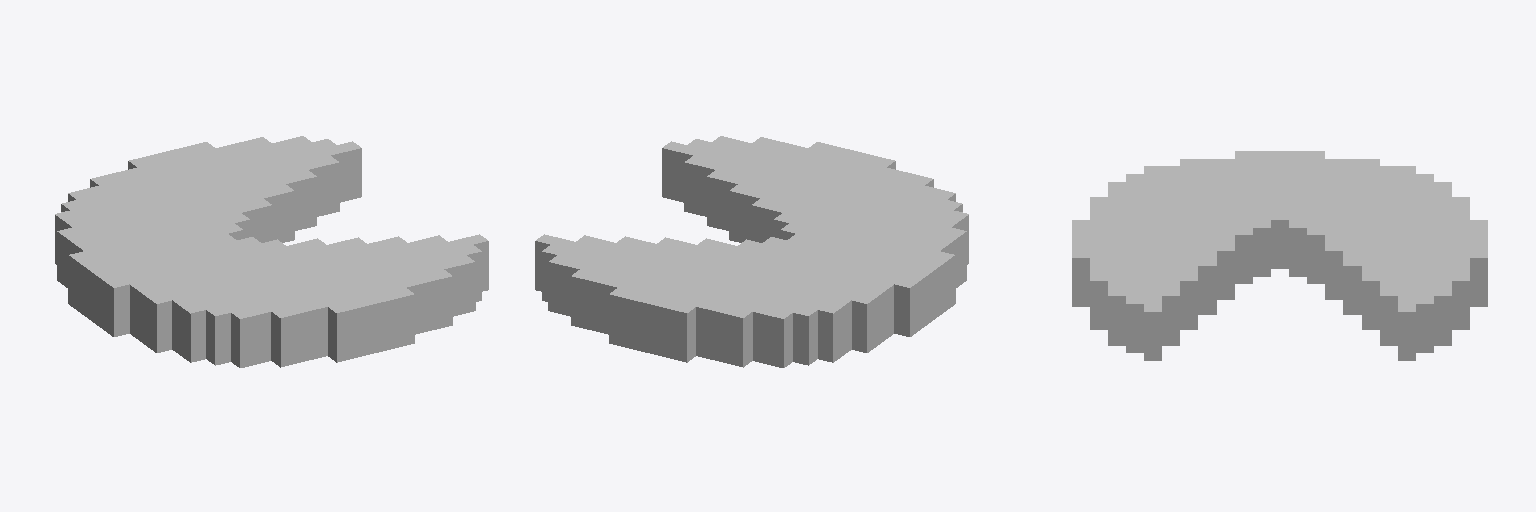
The model's file is Pac Man Sprite Test.obj.
The picture shows the model from 3 angles: view 1: azimuth 30°, elevation 25°; view 2: azimuth 150°, elevation 25°; view 3: azimuth 270°, elevation 25°; orthographic projection.
Size of the model in its own units: 21 by 3 by 23.